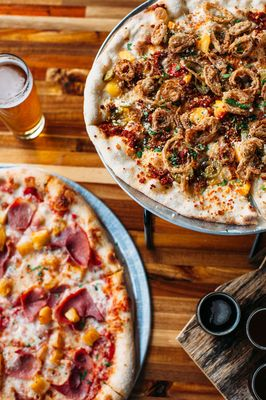pizza: (0, 53, 45, 142)
